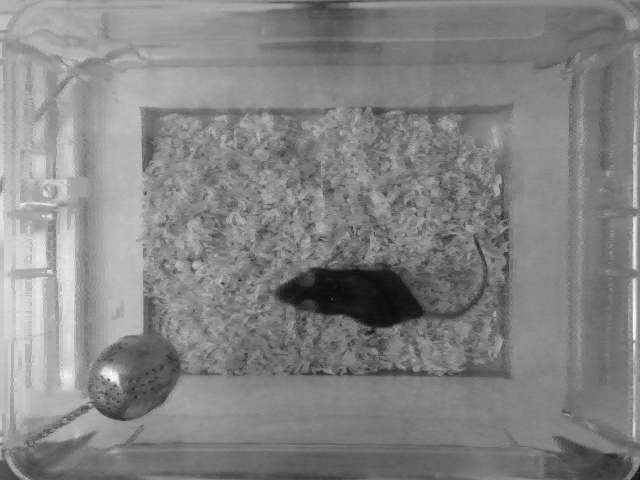mice: (273, 233, 488, 329)
